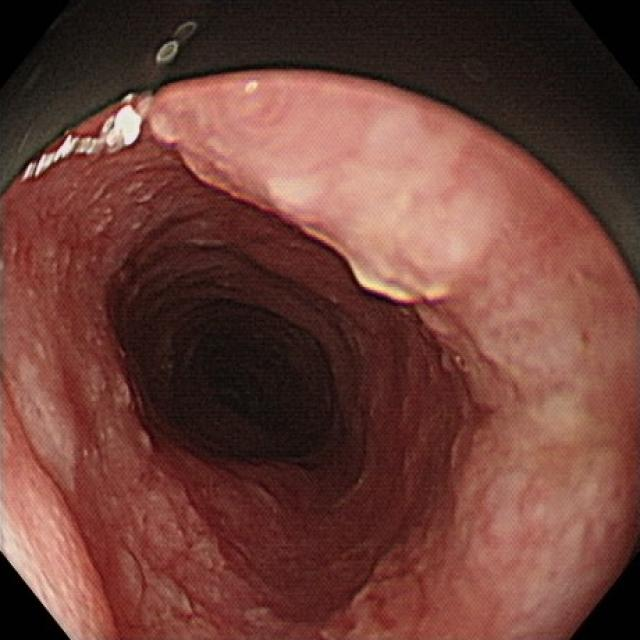A: (446, 409, 626, 633), (5, 302, 103, 640), (118, 473, 217, 635), (329, 545, 434, 635)
B: (157, 89, 512, 303)
E: (121, 252, 360, 454)
U: (22, 95, 150, 183), (157, 23, 197, 64)
